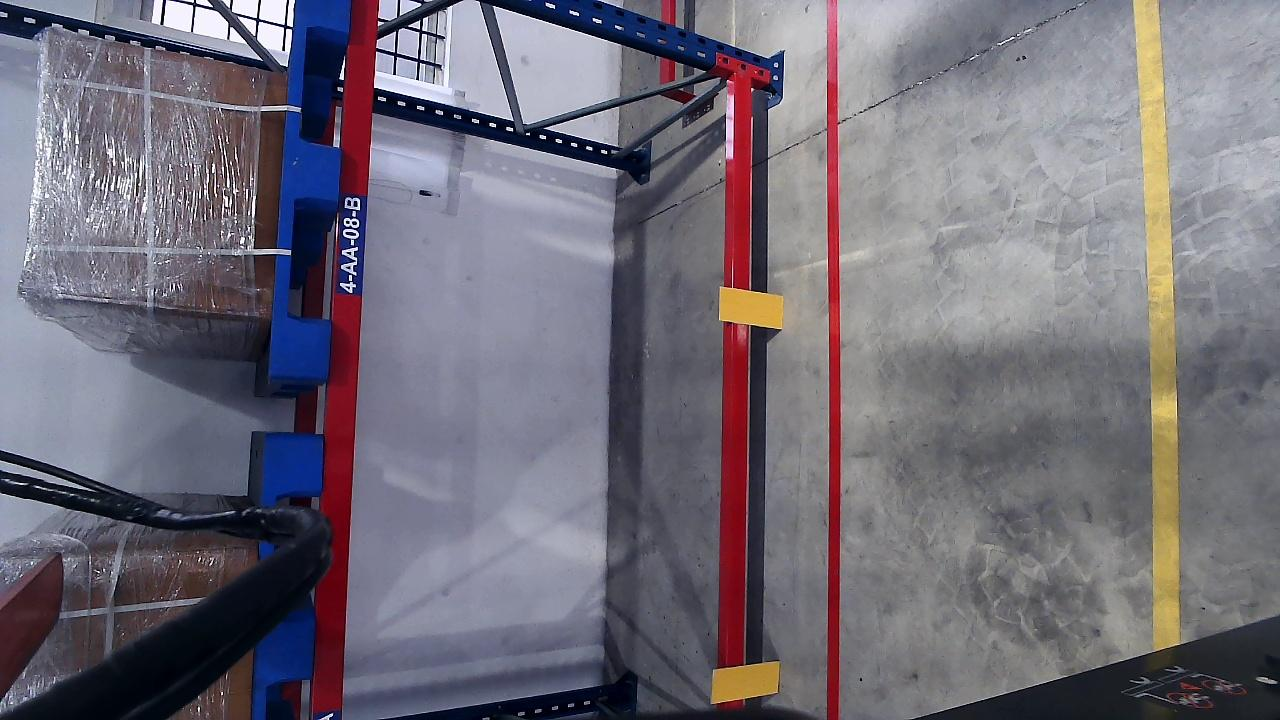h_rack: (337, 0, 372, 675), (725, 76, 758, 636)
orange_strip: (711, 660, 780, 702), (719, 285, 784, 328)
red_line: (822, 83, 844, 720)
small_pallet: (272, 2, 351, 380), (253, 436, 326, 720)
yellow_line: (1135, 0, 1182, 596)
